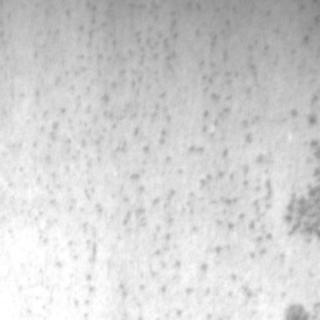pitted_surface: (0, 0, 310, 316)
